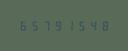eight: (101, 20, 112, 31)
five: (29, 20, 40, 31), (77, 20, 88, 31)
four: (89, 20, 100, 31)
nine: (53, 20, 64, 31)
one: (65, 20, 76, 31)
seven: (41, 20, 52, 31)
six: (17, 20, 28, 31)
